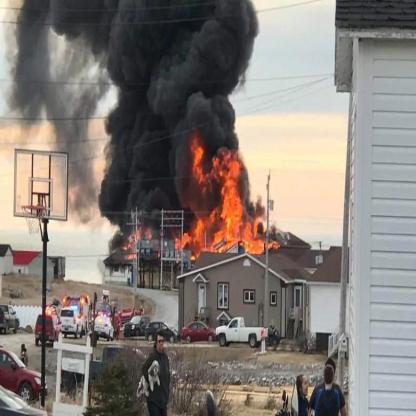fire: (170, 130, 282, 262), (120, 226, 154, 262)
